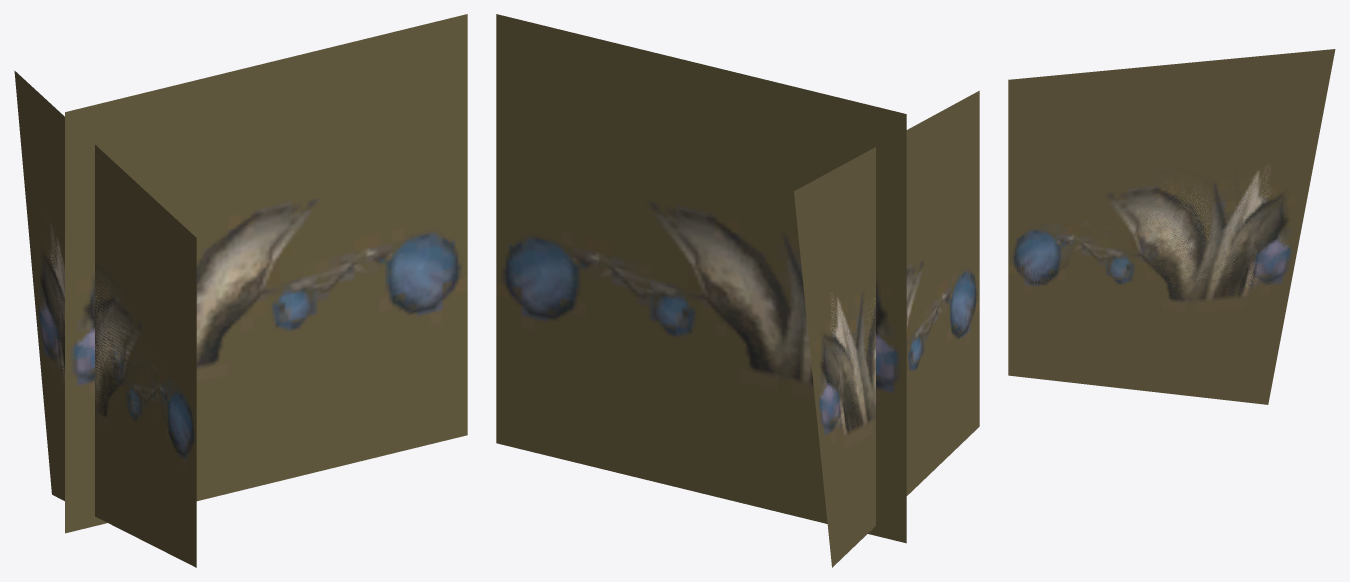
File: succ_tatt_pika_tri_l3.fbx
3 views of the same model, side by side, from view 1: azimuth 30°, elevation 25°; view 2: azimuth 150°, elevation 25°; view 3: azimuth 270°, elevation 25° (orthographic). The views are drawn at different scales.
Parts seen in each view (by area): view 1: mesh_node; view 2: mesh_node; view 3: mesh_node.
Boxes of the visible parts, box(x1,y1,x2,y2) form: mesh_node: box(14, 14, 467, 567); mesh_node: box(496, 14, 979, 567); mesh_node: box(1008, 49, 1335, 404).
Bounding box in the file's own units: 1.2 × 1.2 × 0.9388.
Materials: 1 (1 with a texture image).
